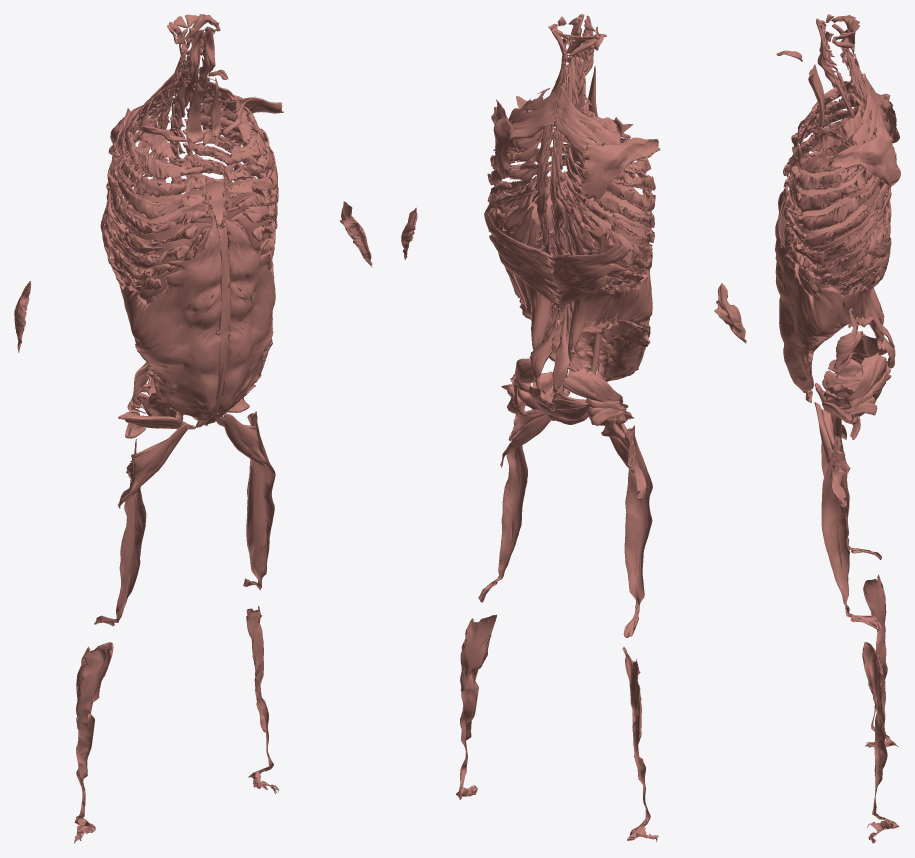
The model's file is deep-lite.glb.
The picture shows the model from 3 angles, left to right: view 1: azimuth 30°, elevation 25°; view 2: azimuth 150°, elevation 25°; view 3: azimuth 270°, elevation 25°; orthographic projection. The views are drawn at different scales.
Visible parts, largest first — view 1: internal_oblique_r, internal_oblique_l, External_intercostal_muscles_r, Internal_intercostal_muscles_r, Diaphragm, vastus_intermedius_l, Tibialis_posterior_muscle_r, External_intercostal_muscles_l, Internal_intercostal_muscles_l, vastus_intermedius_r, Innermost_intercostal_muscles_l, Tibialis_posterior_muscle_l (+11 smaller); view 2: External_intercostal_muscles_r, Transversus_abdominis_muscle_r, vastus_intermedius_r, Serratus_posterior_inferior_muscle_r, Tibialis_posterior_muscle_l, Subscapularis_muscle_r, Serratus_posterior_inferior_muscle_l, vastus_intermedius_l, Diaphragm, internal_oblique_r, Levatores_longi_costarum_l, External_intercostal_muscles_l (+17 smaller); view 3: External_intercostal_muscles_l, internal_oblique_l, vastus_intermedius_l, Internal_intercostal_muscles_l, Tibialis_posterior_muscle_l, Diaphragm, Subscapularis_muscle_l, Innermost_intercostal_muscles_l, Transversus_abdominis_muscle_l, Tibialis_posterior_muscle_r, Innermost_intercostal_muscles_r, adductor_brevis_l (+20 smaller).
Part boxes in pixels (<box>): internal_oblique_r: <box>117,217,222,421</box>; internal_oblique_l: <box>214,219,275,419</box>; External_intercostal_muscles_r: <box>100,92,178,287</box>; Internal_intercostal_muscles_r: <box>109,123,211,290</box>; Diaphragm: <box>117,181,273,299</box>; vastus_intermedius_l: <box>243,411,275,590</box>; Tibialis_posterior_muscle_r: <box>74,642,113,843</box>; External_intercostal_muscles_l: <box>184,81,278,251</box>; Internal_intercostal_muscles_l: <box>204,100,276,262</box>; vastus_intermedius_r: <box>94,438,146,626</box>; Innermost_intercostal_muscles_l: <box>202,100,276,239</box>; Tibialis_posterior_muscle_l: <box>246,605,279,793</box>; External_intercostal_muscles_r: <box>565,111,655,289</box>; Transversus_abdominis_muscle_r: <box>580,214,650,380</box>; vastus_intermedius_r: <box>623,425,652,637</box>; Serratus_posterior_inferior_muscle_r: <box>552,244,629,309</box>; Tibialis_posterior_muscle_l: <box>456,614,496,799</box>; Subscapularis_muscle_r: <box>580,137,660,201</box>; Serratus_posterior_inferior_muscle_l: <box>484,213,560,309</box>; vastus_intermedius_l: <box>478,414,527,602</box>; Diaphragm: <box>497,173,649,289</box>; internal_oblique_r: <box>594,269,652,381</box>; Levatores_longi_costarum_l: <box>499,87,550,247</box>; External_intercostal_muscles_l: <box>484,98,543,244</box>; External_intercostal_muscles_l: <box>790,105,891,293</box>; internal_oblique_l: <box>775,199,868,393</box>; vastus_intermedius_l: <box>821,435,881,629</box>; Internal_intercostal_muscles_l: <box>783,146,888,287</box>; Tibialis_posterior_muscle_l: <box>862,642,899,843</box>; Diaphragm: <box>790,166,881,295</box>; Subscapularis_muscle_l: <box>831,134,900,187</box>; Innermost_intercostal_muscles_l: <box>793,152,887,284</box>; Transversus_abdominis_muscle_l: <box>794,211,877,402</box>; Tibialis_posterior_muscle_r: <box>863,574,898,747</box>; Innermost_intercostal_muscles_r: <box>795,92,883,188</box>; adductor_brevis_l: <box>814,402,846,507</box>.
Bounding box in the file's own units: 0.7331 × 1.61 × 0.236.
